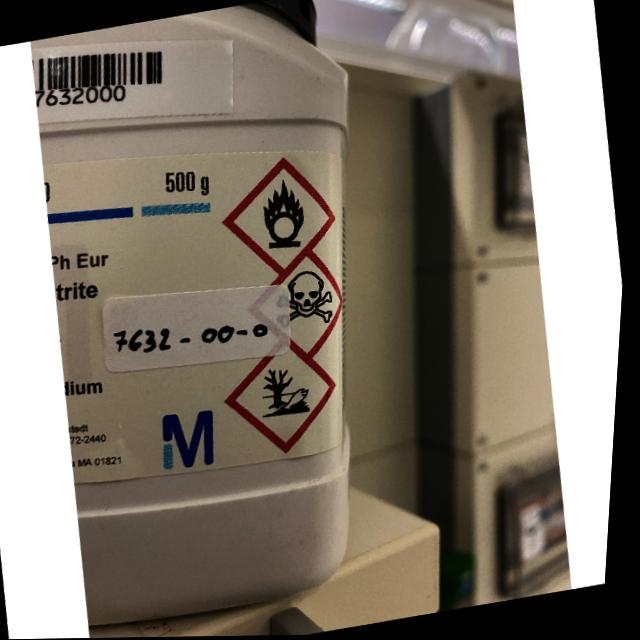acute toxicity: (274, 268, 342, 334)
hazardous to the environment: (261, 363, 319, 421)
oxidising: (258, 178, 314, 256)
